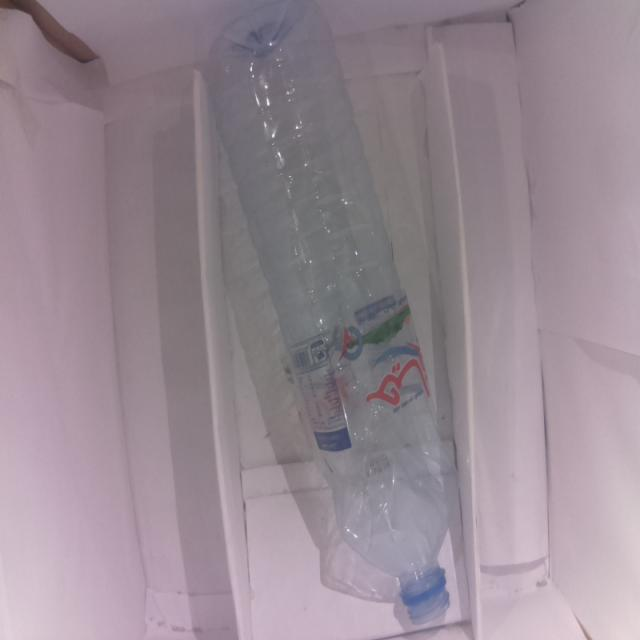Anorganik: (200, 3, 454, 621)
